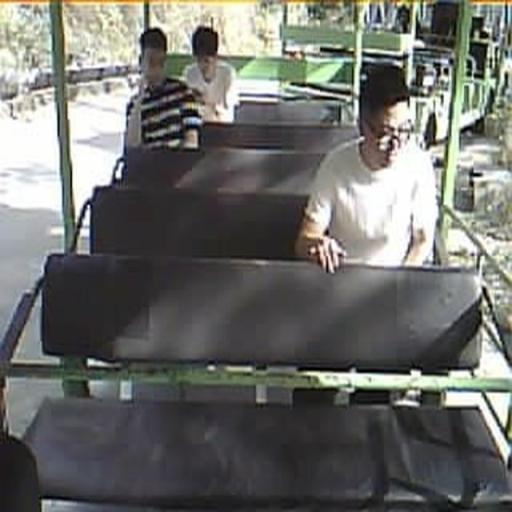persona: (294, 61, 440, 275), (122, 26, 204, 157), (182, 24, 238, 122)
